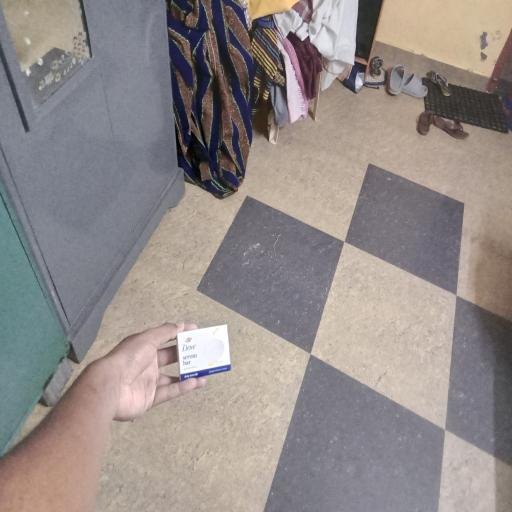Dove`1: (170, 324, 236, 381)
